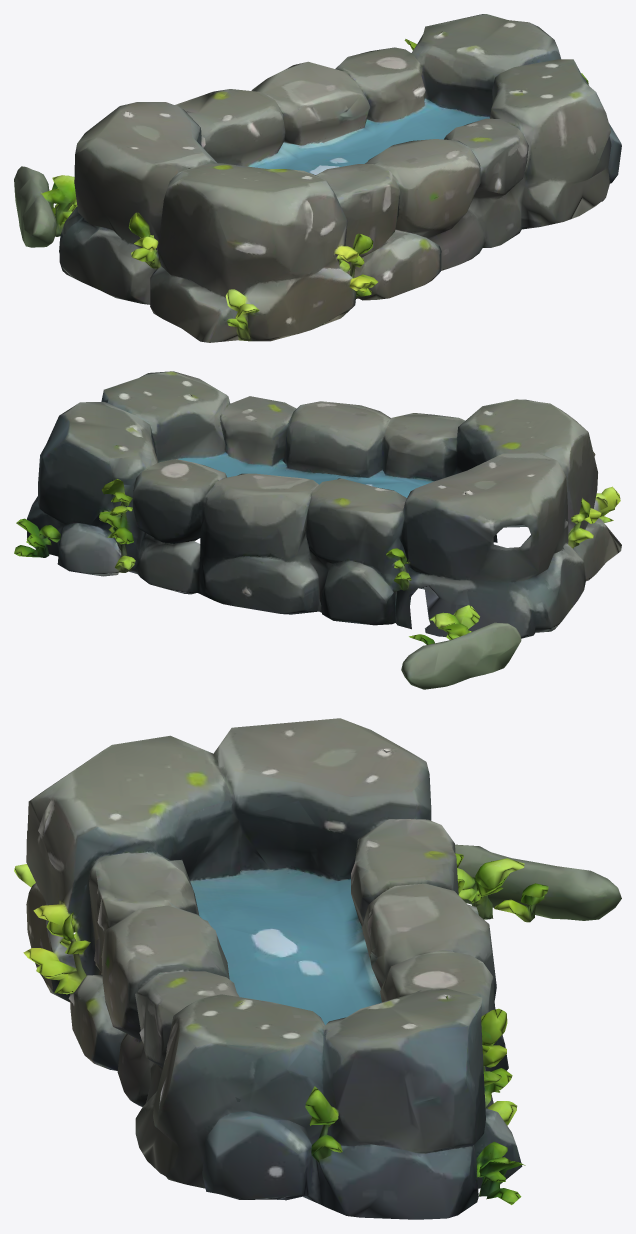
File: falls.glb
The picture shows the model from 3 angles, top to bottom: view 1: azimuth 30°, elevation 25°; view 2: azimuth 150°, elevation 25°; view 3: azimuth 270°, elevation 25°; orthographic projection. The views are drawn at different scales.
Bounding box in the file's own units: 2.95 × 0.7869 × 2.25.
Materials: 1 (1 with a texture image).
